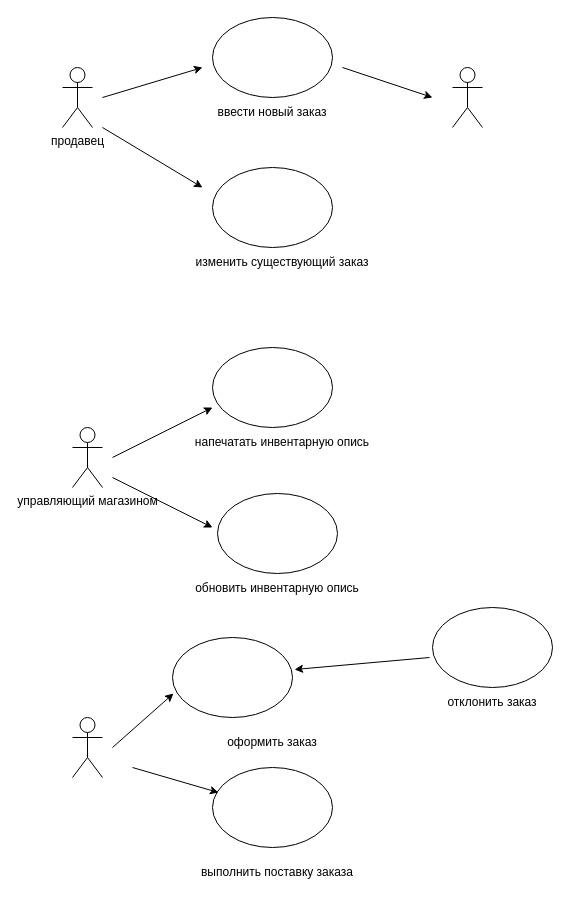
The diagram is 570 pixels wide and 905 high, and some of its shapes have lost their labels. Here are the shapes that lost their labels. From the top down, the box of each, then its label:
(452, 66, 482, 128): бухгалтерская система
(72, 716, 102, 778): клерк в магазине
